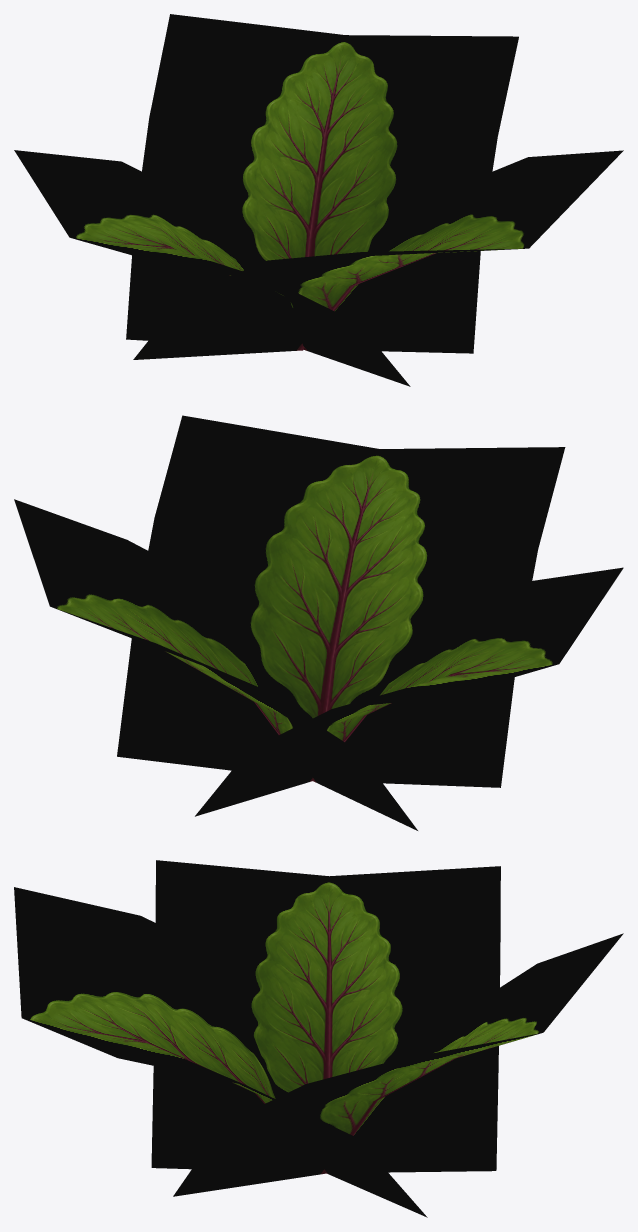
Rendered from BeetPlant01.fbx.
3 views of the same model, one above another, from view 1: azimuth 30°, elevation 25°; view 2: azimuth 150°, elevation 25°; view 3: azimuth 270°, elevation 25° (orthographic). The views are drawn at different scales.
Parts seen in each view (by area): view 1: BeetPlant01_LOD0; view 2: BeetPlant01_LOD0; view 3: BeetPlant01_LOD0.
Part boxes in pixels (box(x1,y1,x2,y2)): BeetPlant01_LOD0: box(14, 14, 623, 386); BeetPlant01_LOD0: box(14, 415, 623, 830); BeetPlant01_LOD0: box(14, 860, 623, 1217).
Size of what is drawn, in the model's own units: 0.2214 by 0.1015 by 0.2299.
